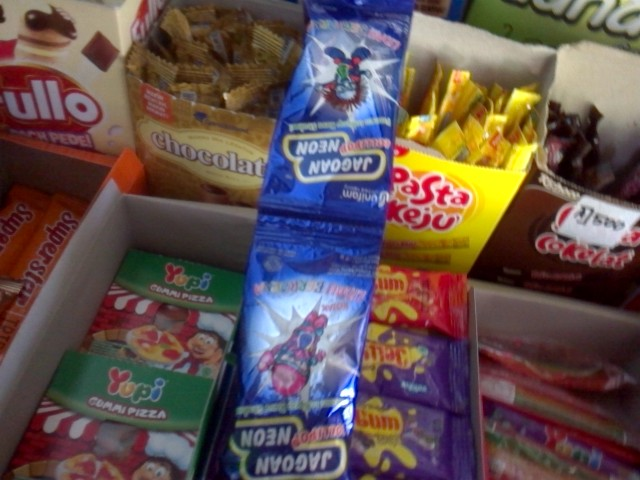jagoan neon: (223, 222, 382, 479), (259, 1, 413, 237)
